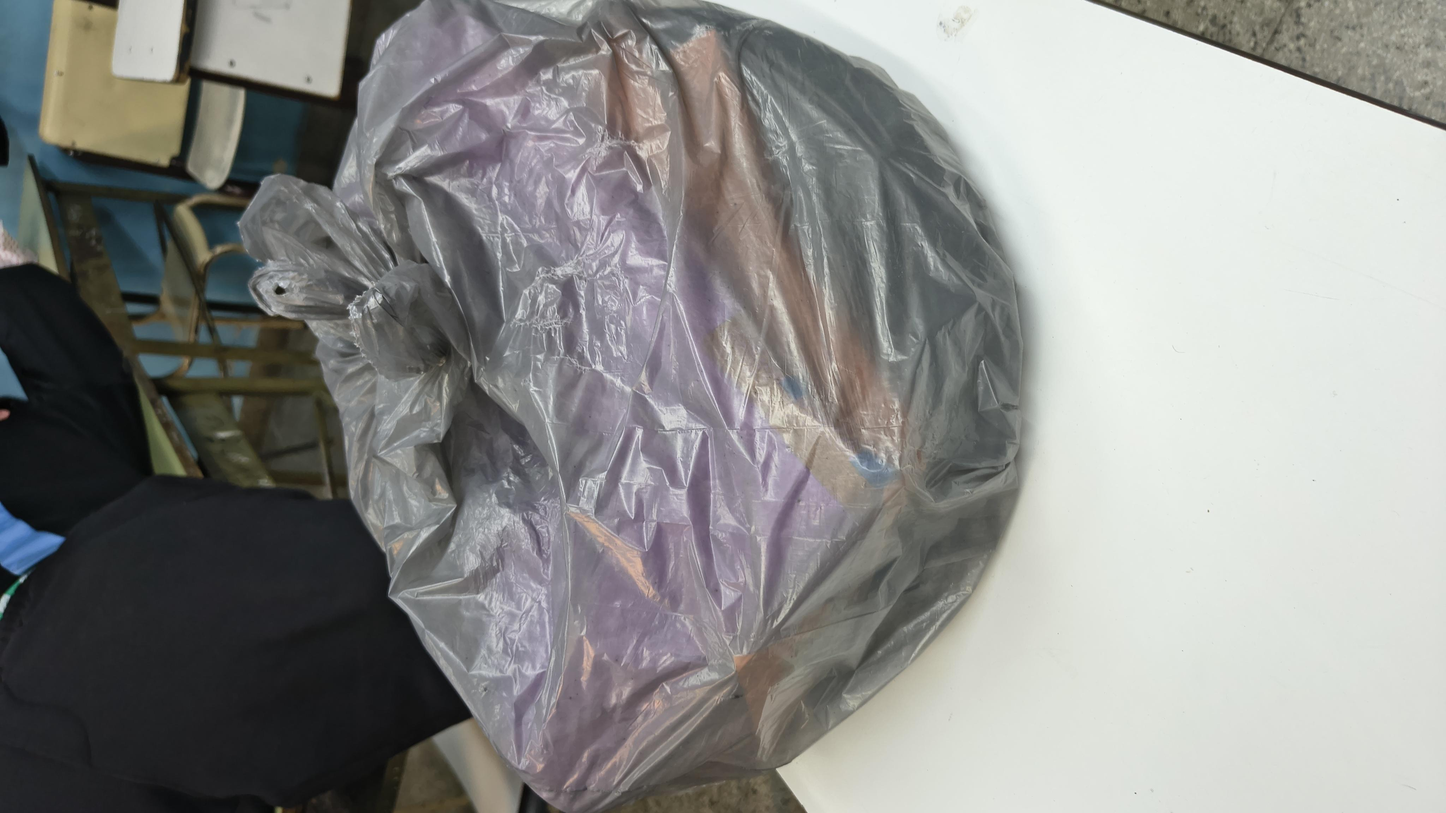Garbage: (0, 107, 1446, 568)
